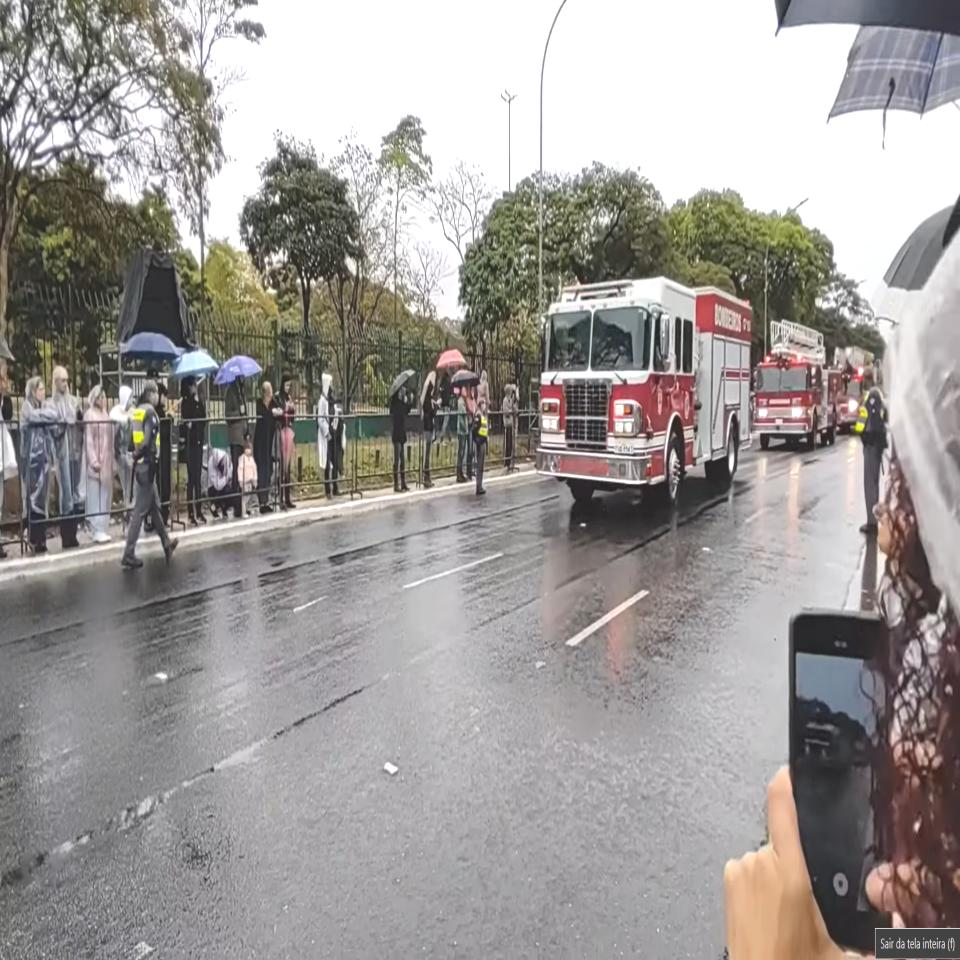bombeiro: (534, 273, 754, 512), (754, 317, 842, 450)
